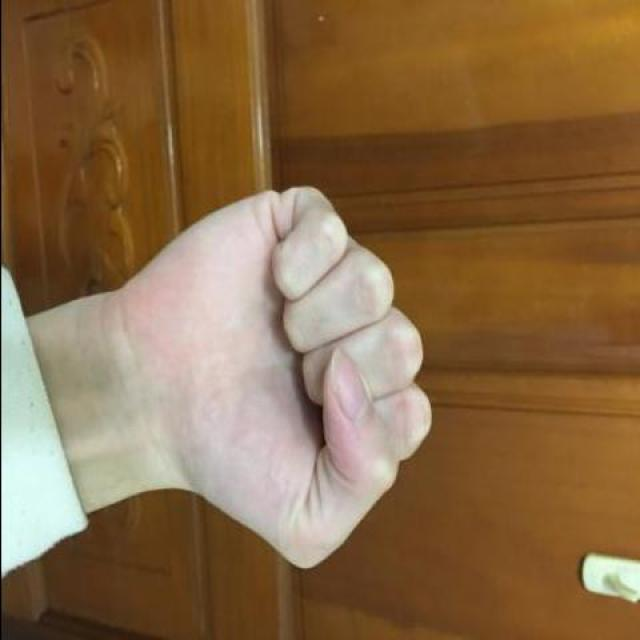fist: (89, 157, 431, 576)
